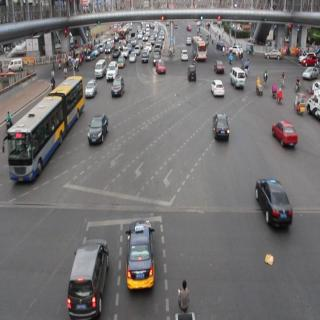BigCar: (13, 80, 79, 176)
Car: (66, 230, 107, 318), (120, 222, 158, 298), (254, 168, 293, 238), (269, 121, 301, 153), (84, 109, 110, 146), (212, 114, 235, 143), (210, 77, 230, 103), (110, 75, 127, 101), (232, 68, 248, 94), (84, 78, 98, 102)
